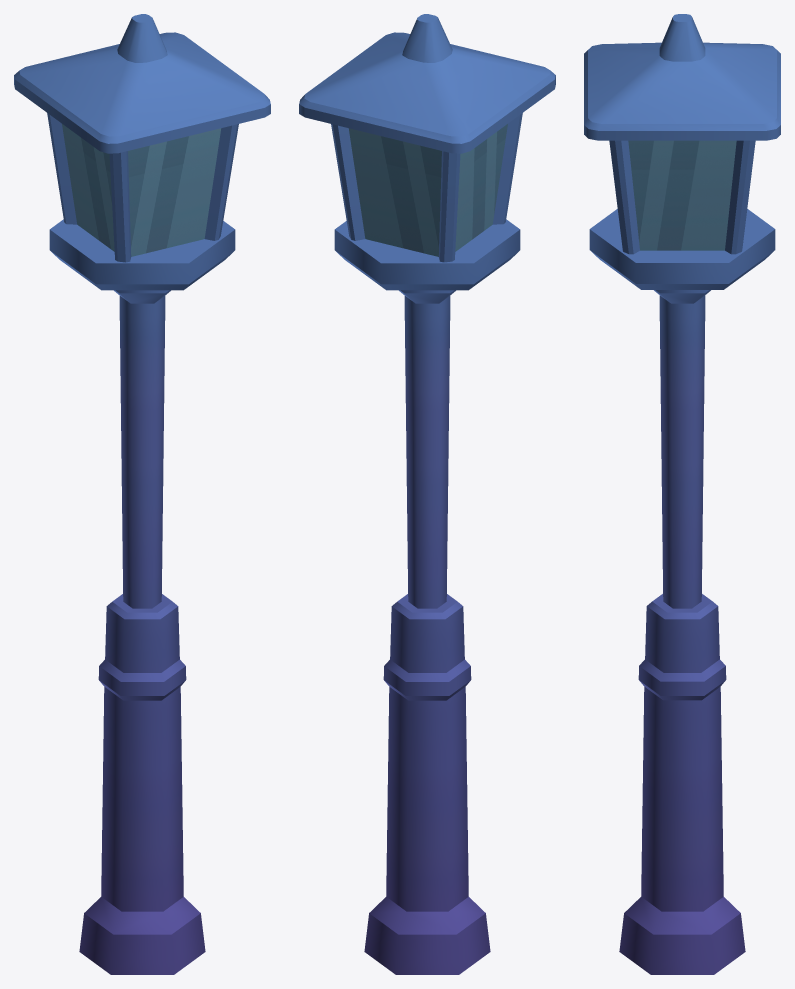
File: StreetLamp_3_B.fbx
The picture shows the model from 3 angles, left to right: view 1: azimuth 30°, elevation 25°; view 2: azimuth 150°, elevation 25°; view 3: azimuth 270°, elevation 25°; orthographic projection.
Parts seen in each view (by area): view 1: StreetLamp_3_B; view 2: StreetLamp_3_B; view 3: StreetLamp_3_B.
Boxes of the visible parts, box(x1,y1,x2,y2) form: StreetLamp_3_B: box(14, 14, 270, 974); StreetLamp_3_B: box(299, 14, 555, 974); StreetLamp_3_B: box(584, 14, 780, 974).
Size of the model in its own units: 74.08 by 388 by 74.08.
